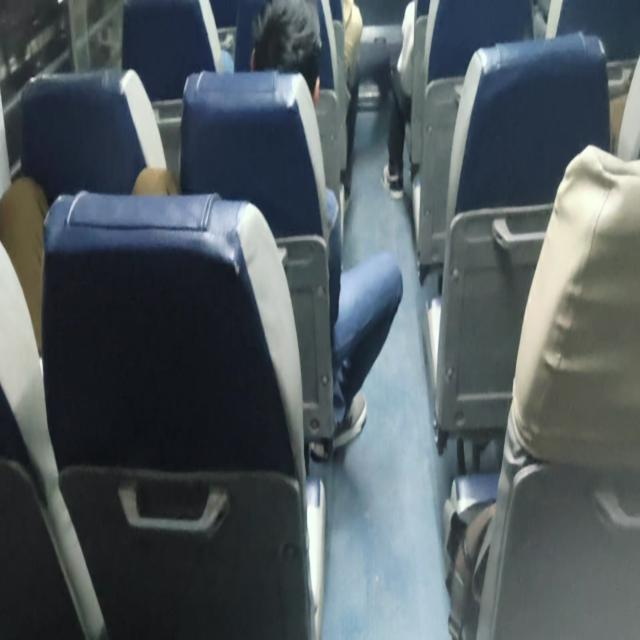person: (239, 0, 329, 116)
